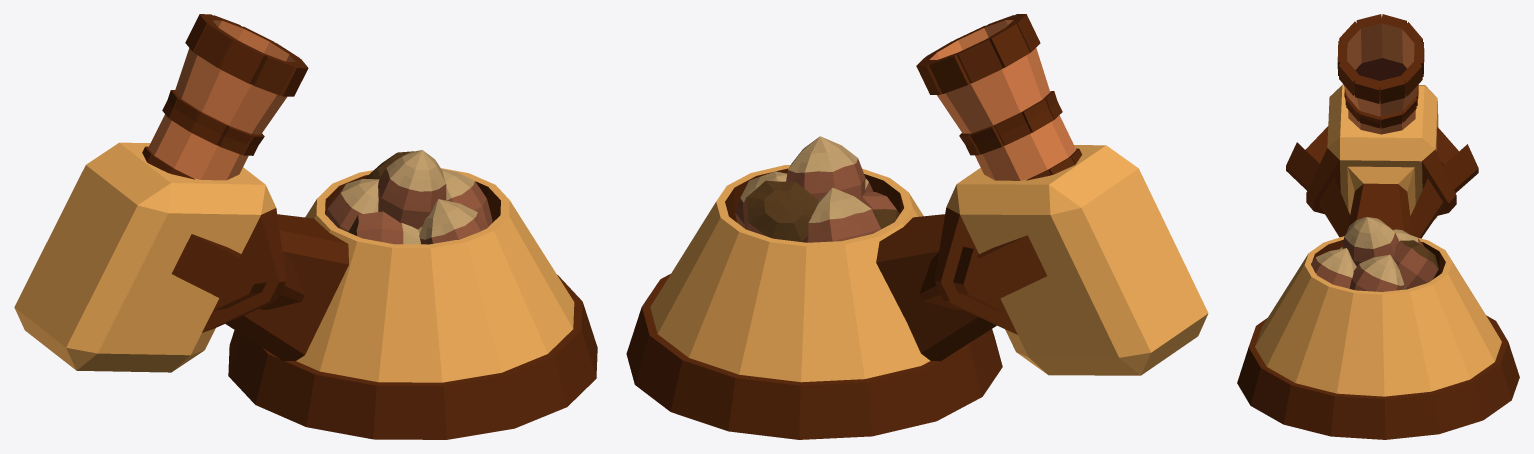
File: fındıkatarv2.fbx
3 views of the same model, side by side, from view 1: azimuth 30°, elevation 25°; view 2: azimuth 150°, elevation 25°; view 3: azimuth 270°, elevation 25° (orthographic). The views are drawn at different scales.
Parts seen in each view (by area): view 1: Cube.024, parentli kurdanatar.008; view 2: parentli kurdanatar.008, Cube.024; view 3: parentli kurdanatar.008, Cube.024.
Part boxes in pixels (box(x1,y1,x2,y2)): Cube.024: box(14, 14, 348, 372); parentli kurdanatar.008: box(228, 150, 597, 439); parentli kurdanatar.008: box(626, 136, 1002, 439); Cube.024: box(876, 14, 1208, 375); parentli kurdanatar.008: box(1237, 217, 1519, 439); Cube.024: box(1286, 14, 1478, 238).
Bounding box in the file's own units: 398 × 276 × 243.
Materials: 3 (3 with a texture image).
